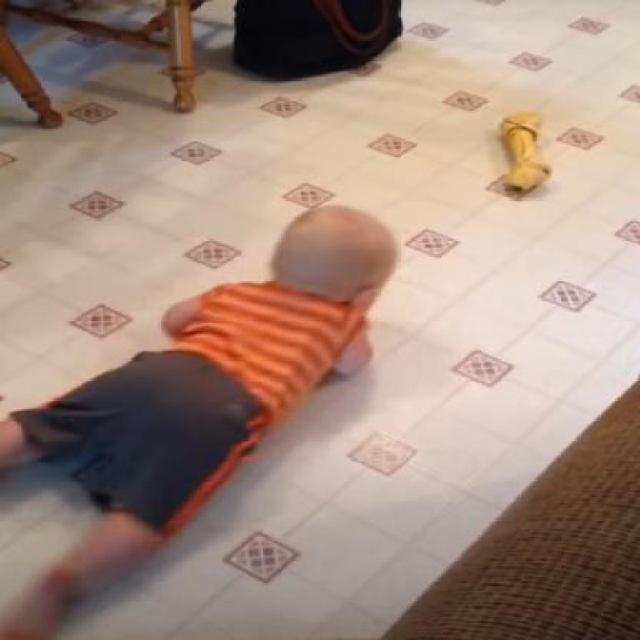baby: (0, 206, 398, 620)
